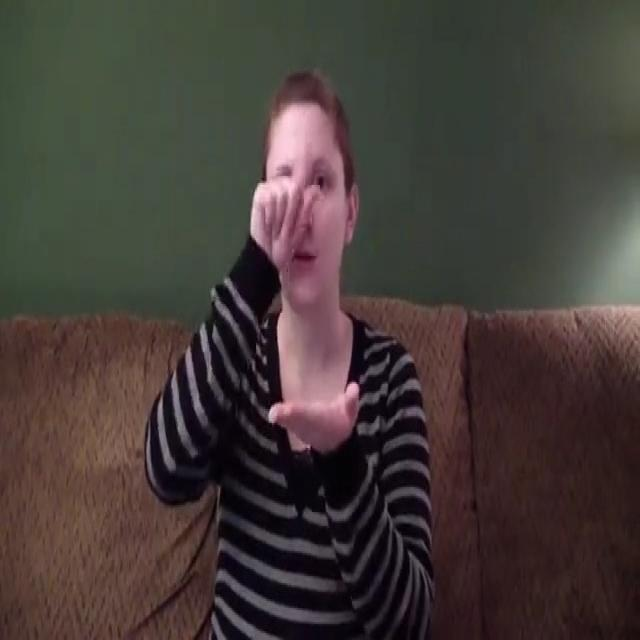chicken: (242, 120, 374, 463)
